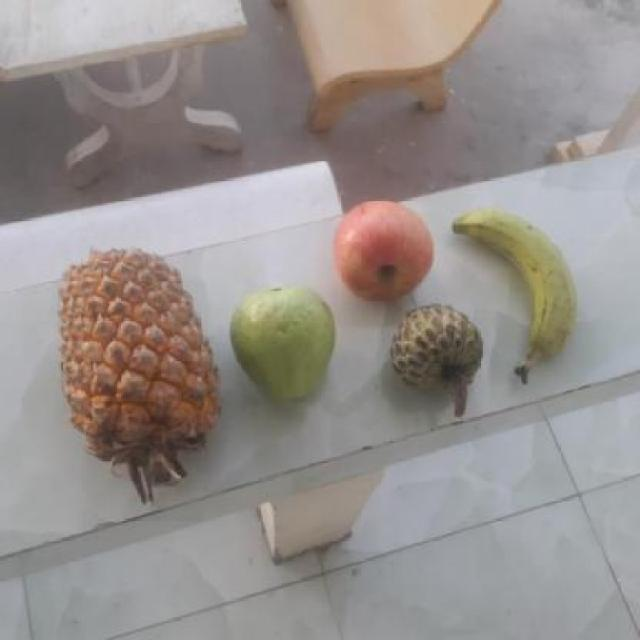apple: (329, 198, 440, 302)
banana: (450, 208, 573, 364)
guava: (226, 282, 334, 402)
pineapple: (52, 251, 215, 466)
sugar apple: (386, 302, 482, 410)
